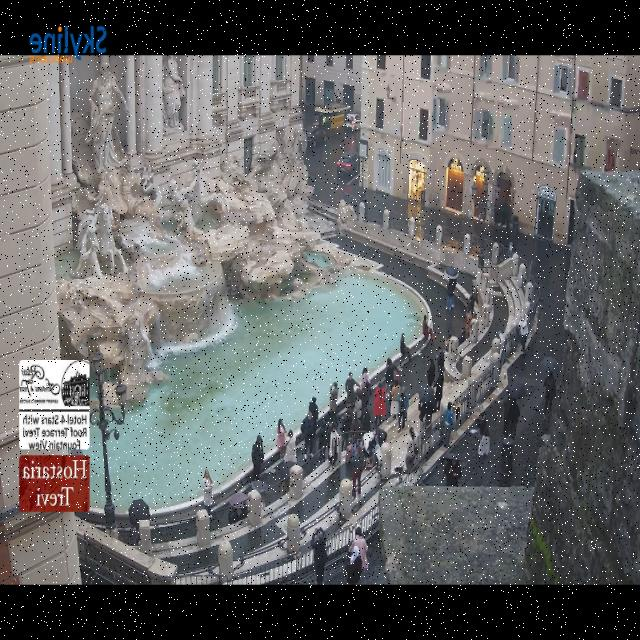person: (310, 528, 328, 585), (300, 411, 314, 459), (345, 545, 361, 584), (351, 445, 363, 497), (352, 528, 367, 569), (404, 428, 418, 470), (543, 371, 555, 419), (373, 380, 385, 427), (327, 423, 340, 465), (251, 436, 263, 481), (396, 386, 407, 431), (477, 412, 488, 456), (341, 405, 354, 441), (344, 372, 358, 404), (317, 420, 327, 463), (508, 399, 519, 438), (384, 358, 395, 396), (202, 470, 211, 516), (443, 402, 452, 448), (444, 460, 460, 485), (228, 504, 247, 524), (434, 368, 443, 410), (389, 383, 400, 417), (517, 315, 527, 352), (502, 396, 511, 437), (284, 430, 295, 463), (276, 418, 285, 458), (422, 316, 435, 343), (328, 383, 337, 421), (350, 413, 363, 439), (357, 384, 369, 412), (446, 278, 456, 310), (308, 397, 318, 428), (400, 333, 410, 362), (418, 399, 429, 425), (427, 358, 435, 385), (361, 408, 370, 432), (466, 290, 475, 312), (360, 368, 369, 390), (464, 310, 471, 337), (353, 397, 361, 418), (453, 400, 460, 422), (436, 346, 443, 368), (470, 288, 477, 308), (444, 335, 451, 354), (458, 326, 465, 344), (393, 368, 400, 384)
